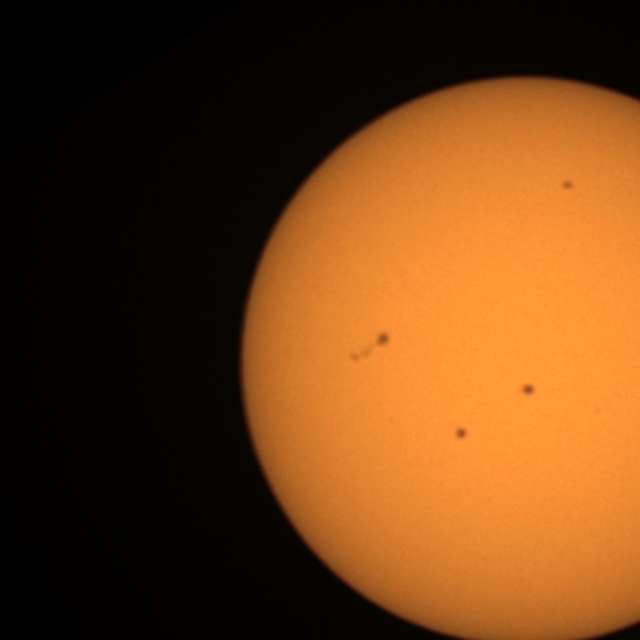sunspot: (348, 330, 392, 364), (373, 330, 393, 350), (518, 382, 538, 399), (452, 425, 470, 442), (560, 178, 576, 193)
